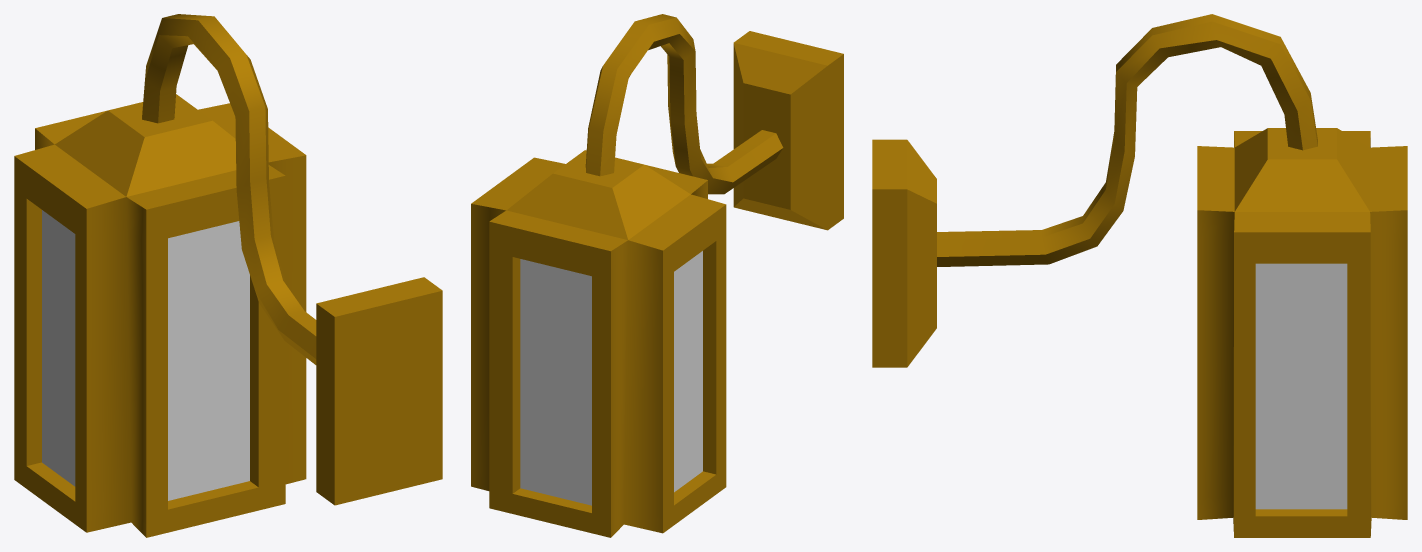
Rendered from wallLantern.fbx.
3 views of the same model, side by side, from view 1: azimuth 30°, elevation 25°; view 2: azimuth 150°, elevation 25°; view 3: azimuth 270°, elevation 25° (orthographic). The views are drawn at different scales.
Visible parts, largest first — view 1: Body, LightB, LightR; view 2: Body, LightF, LightR; view 3: Body, LightL.
Boxes of the visible parts, x1,y1,x2,y2 form: Body: (14,14,442,537); LightB: (168,221,249,500); LightR: (42,210,75,486); Body: (471,14,843,537); LightF: (520,259,591,505); LightR: (674,251,702,492); Body: (872,14,1407,537); LightL: (1255,263,1347,509).
Bounding box in the file's own units: 0.2707 × 0.5848 × 0.604.
